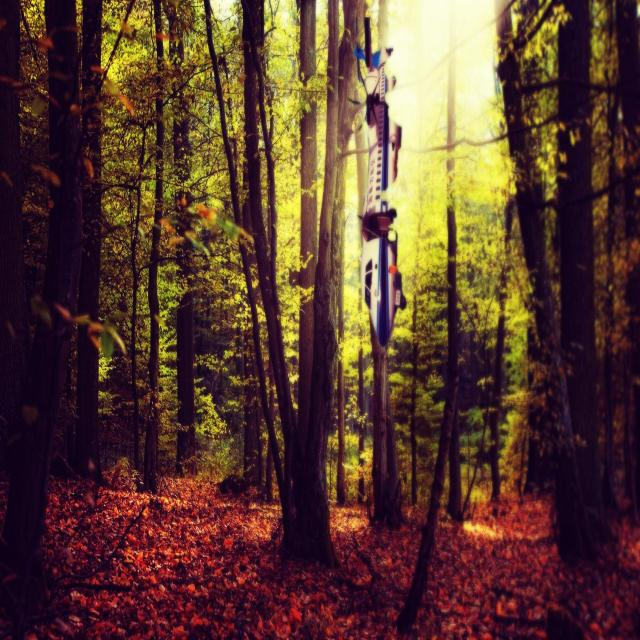airplane: (355, 48, 407, 348)
